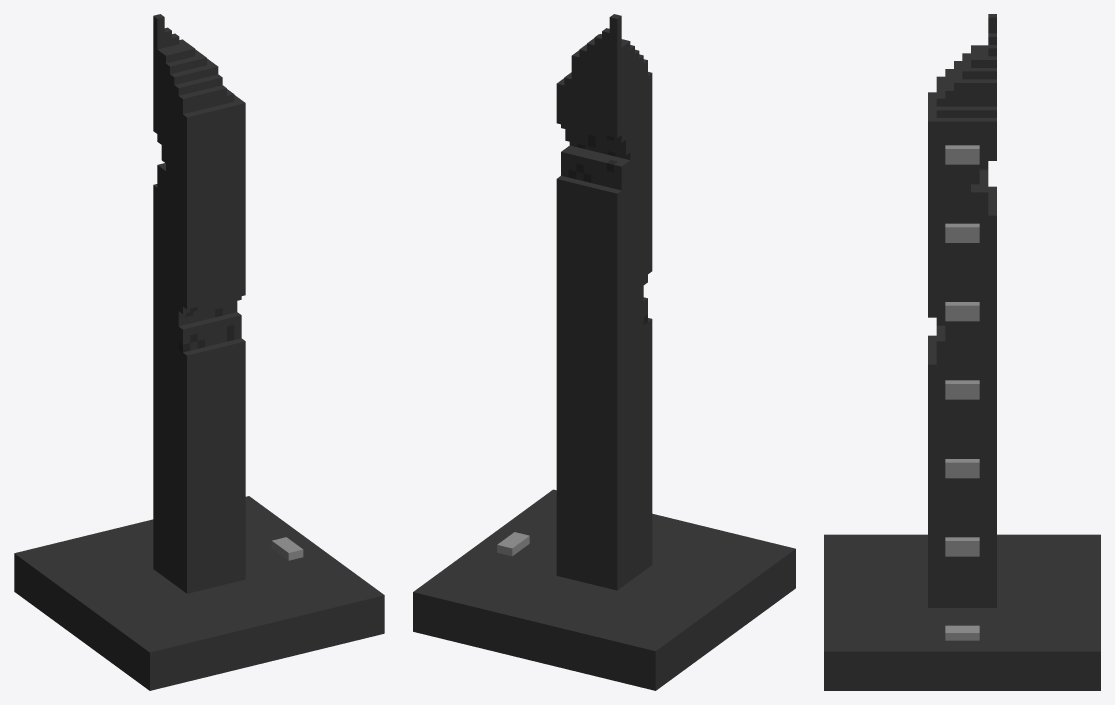
The model's file is Portal_3.1.1.obj.
The picture shows the model from 3 angles, left to right: view 1: azimuth 30°, elevation 25°; view 2: azimuth 150°, elevation 25°; view 3: azimuth 270°, elevation 25°; orthographic projection. The views are drawn at different scales.
Size of the model in its own units: 3.2 by 7.7 by 3.2.
1 material, 1 textured.
